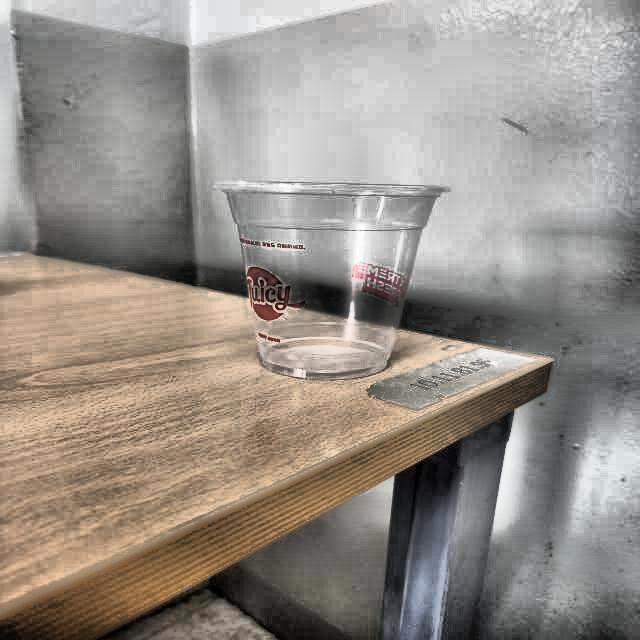plastic cup: (216, 178, 454, 382)
